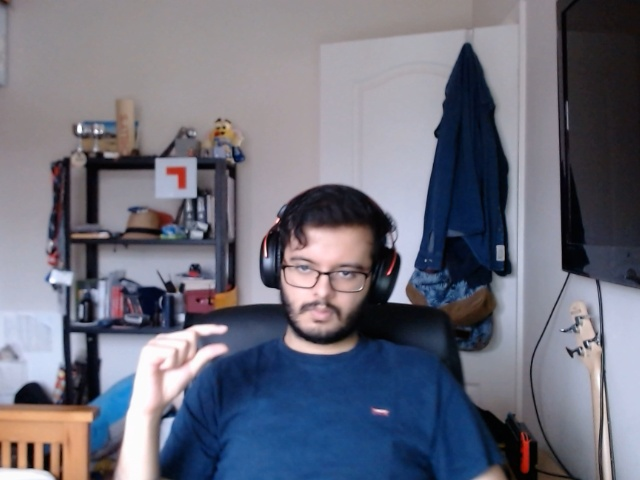Small: (128, 314, 235, 417)
